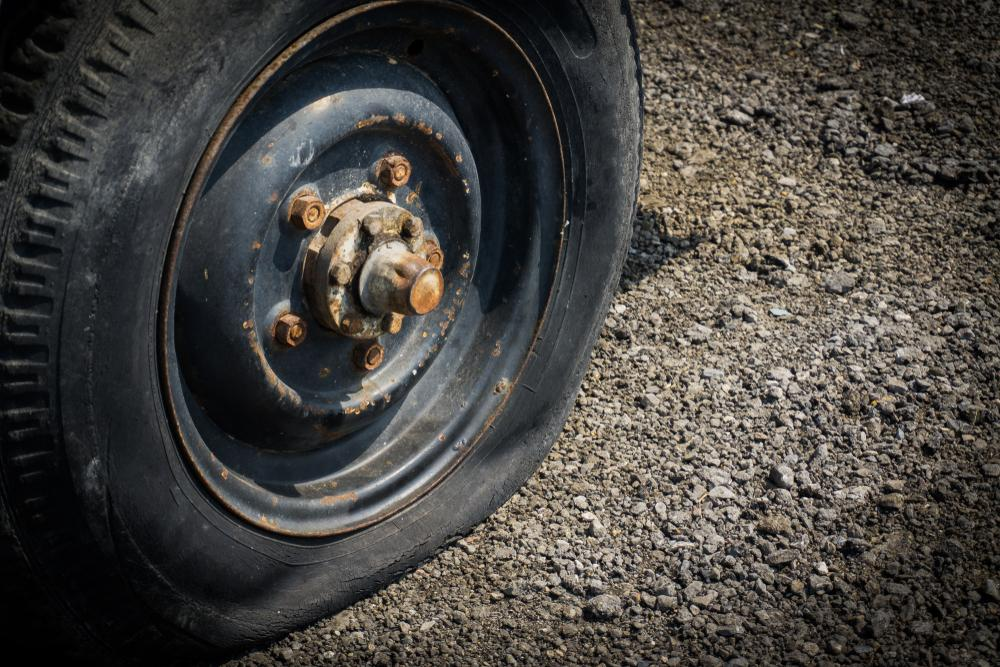tire flat: (0, 0, 642, 657)
